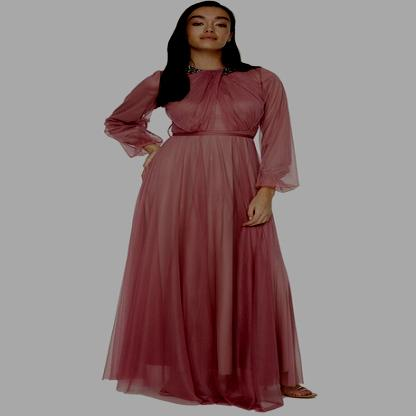dress: (102, 58, 324, 412)
